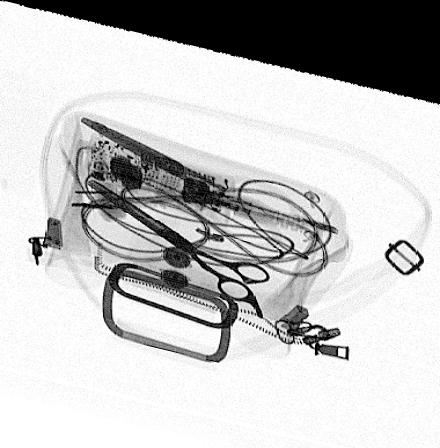Scissors: (76, 106, 302, 241), (82, 171, 275, 311)
